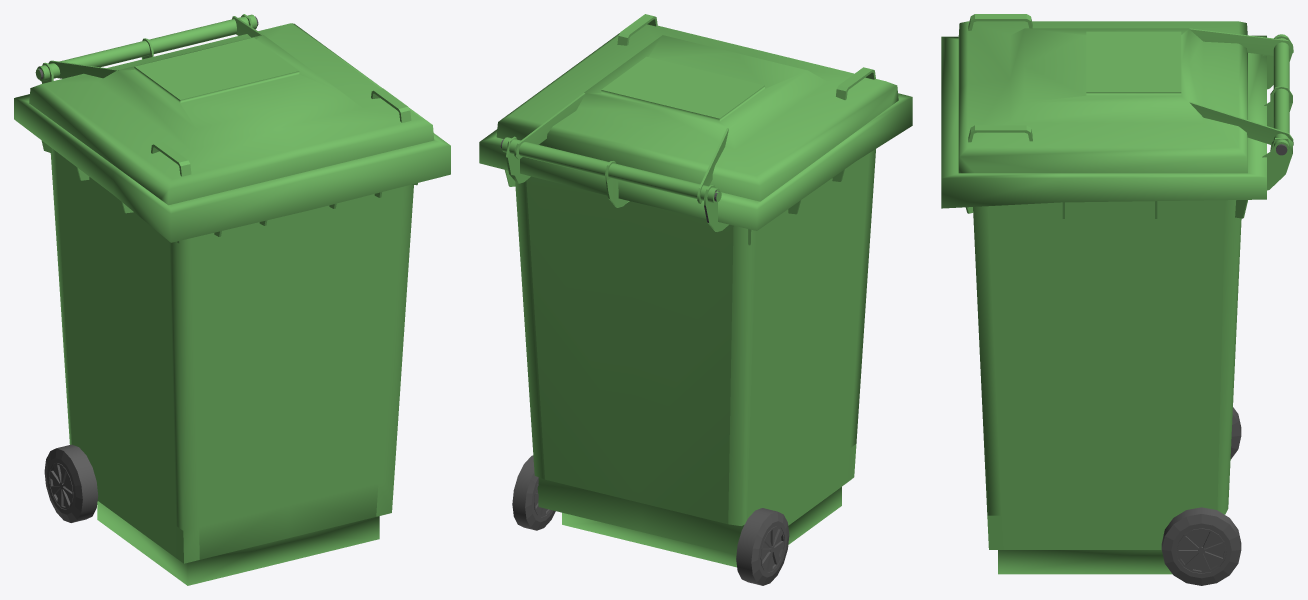
Rendered from bin.fbx.
3 renders of one model, left to right at view 1: azimuth 30°, elevation 25°; view 2: azimuth 150°, elevation 25°; view 3: azimuth 270°, elevation 25°, orthographic. The views are drawn at different scales.
Visible parts, largest first — view 1: polySurface12; view 2: polySurface12; view 3: polySurface12.
Boxes of the visible parts, left/top/right/bottom form: polySurface12: left=14, top=14, right=450, bottom=585; polySurface12: left=479, top=14, right=912, bottom=585; polySurface12: left=941, top=14, right=1293, bottom=585.
Bounding box in the file's own units: 8.05 × 12.26 × 8.45.
